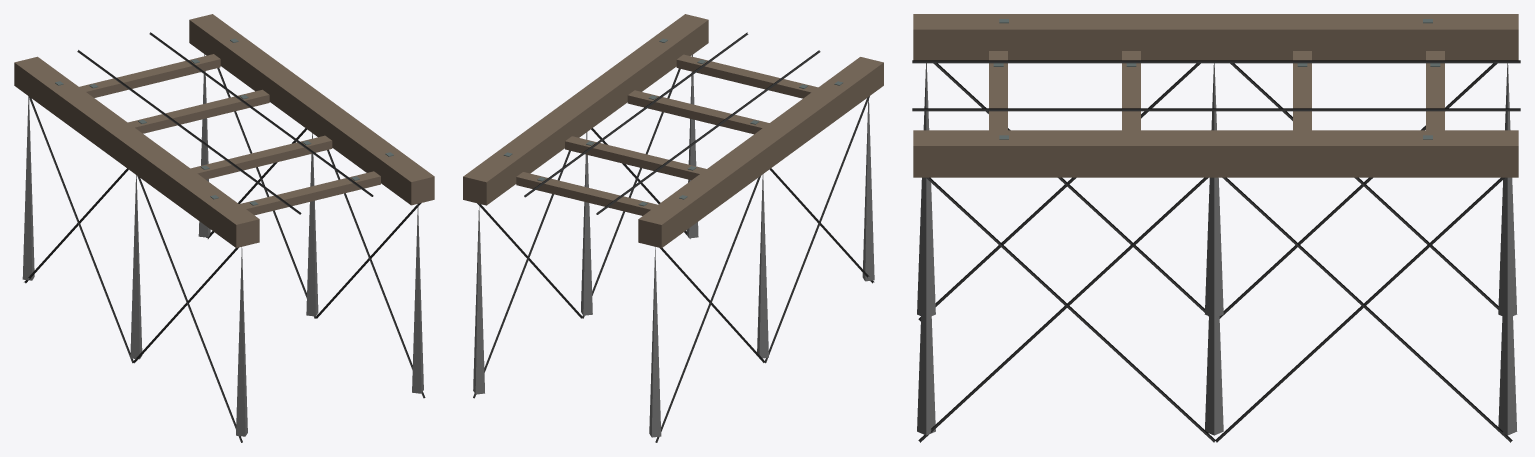
3 renders of one model, left to right at view 1: azimuth 30°, elevation 25°; view 2: azimuth 150°, elevation 25°; view 3: azimuth 270°, elevation 25°, orthographic. The views are drawn at different scales.
Parts seen in each view (by area): view 1: RL90 | archived geometry, RL90 | line, light and sprite surfaces; view 2: RL90 | archived geometry, RL90 | line, light and sprite surfaces; view 3: RL90 | archived geometry, RL90 | line, light and sprite surfaces.
Part boxes in pixels (box(x1,y1,x2,y2)): RL90 | archived geometry: box(14, 14, 434, 436); RL90 | line, light and sprite surfaces: box(24, 32, 425, 442); RL90 | archived geometry: box(463, 14, 883, 437); RL90 | line, light and sprite surfaces: box(473, 32, 874, 442); RL90 | archived geometry: box(913, 14, 1518, 435); RL90 | line, light and sprite surfaces: box(912, 60, 1520, 442).
Size of the model in its own units: 8.25 by 8.84 by 16.06.
